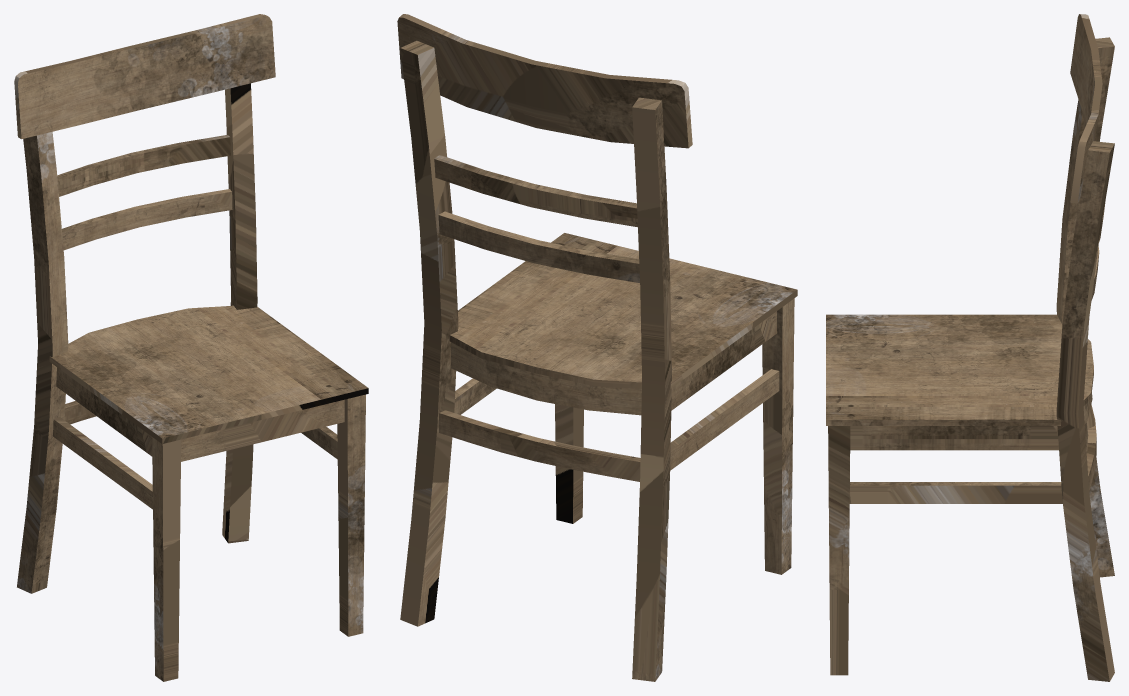
The picture shows the model from 3 angles, left to right: view 1: azimuth 30°, elevation 25°; view 2: azimuth 150°, elevation 25°; view 3: azimuth 270°, elevation 25°; orthographic projection. The views are drawn at different scales.
Visible parts, largest first — view 1: Wood_Chair_01a.006; view 2: Wood_Chair_01a.006; view 3: Wood_Chair_01a.006.
Boxes of the visible parts, x1=… form: Wood_Chair_01a.006: x1=14, y1=14, x2=368, y2=681; Wood_Chair_01a.006: x1=397, y1=14, x2=797, y2=681; Wood_Chair_01a.006: x1=826, y1=14, x2=1114, y2=681.
Size of the model in its own units: 0.5339 by 1.05 by 0.5026.
